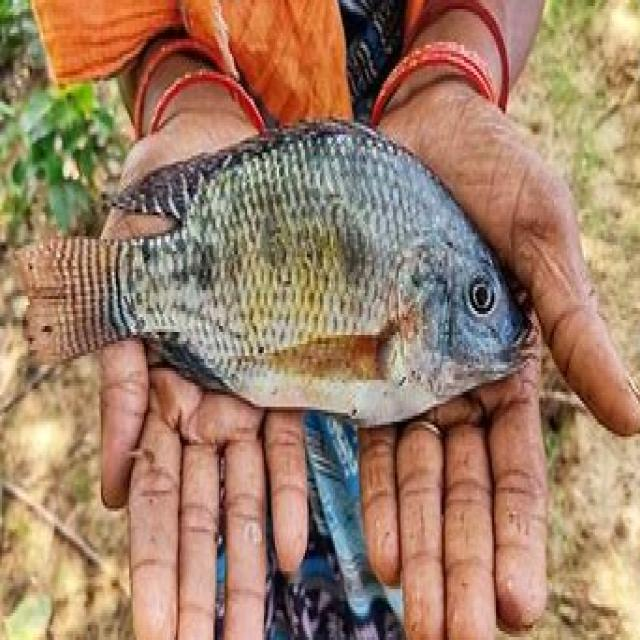Tilapia: (19, 112, 542, 428)
